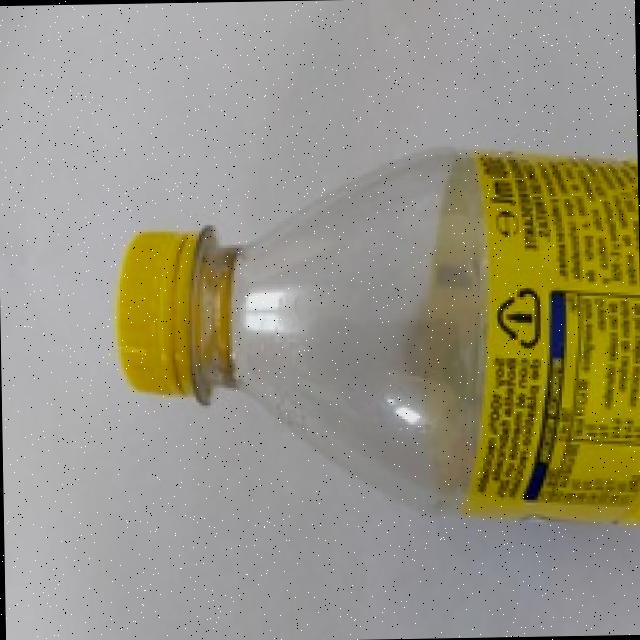bottle: (79, 134, 640, 536)
cap: (120, 224, 230, 406)
label: (473, 139, 640, 525)
